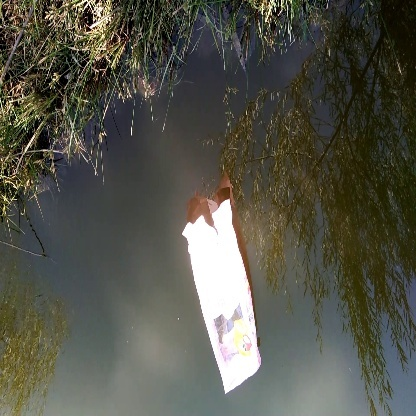plastic-bag: (179, 201, 267, 398)
